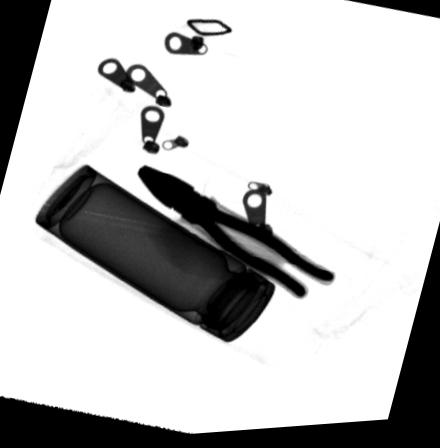Pliers: (135, 167, 337, 304)
